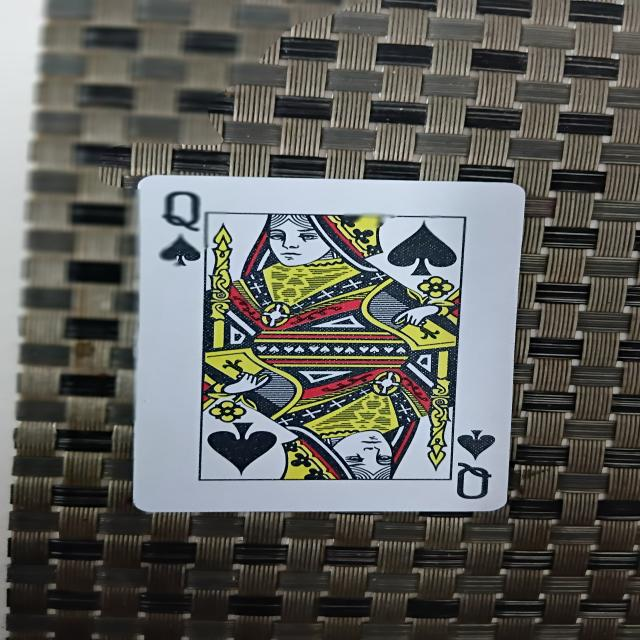QS: (142, 177, 513, 515)
